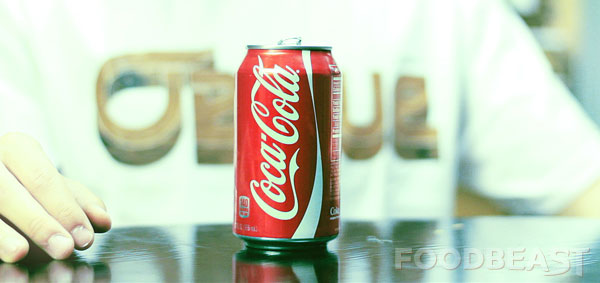coke: (239, 46, 340, 255)
